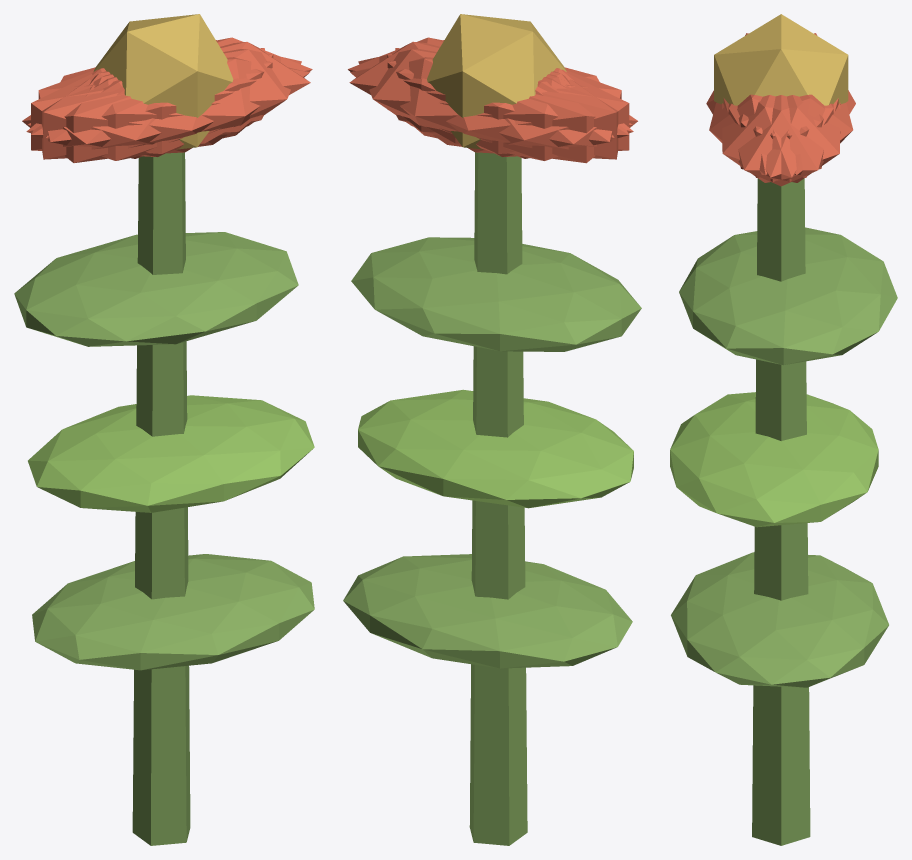
Rendered from ficus-racemosa.glb.
3 views of the same model, side by side, from view 1: azimuth 30°, elevation 25°; view 2: azimuth 150°, elevation 25°; view 3: azimuth 270°, elevation 25° (orthographic).
Parts seen in each view (by area): view 1: stem, leaf1, leaf0, leaf2, center, petal1, petal6, petal2, petal5, petal7, petal0, petal4 (+2 smaller); view 2: stem, leaf2, leaf0, leaf1, center, petal8, petal3, petal7, petal4, petal2, petal0, petal5 (+2 smaller); view 3: stem, leaf2, leaf0, leaf1, center, petal0, petal4, petal5, petal1, petal8.
Boxes of the visible parts, x1=… form: stem: x1=132, y1=152, x2=190, y2=845; leaf1: x1=28, y1=395, x2=314, y2=512; leaf0: x1=32, y1=554, x2=314, y2=670; leaf2: x1=14, y1=232, x2=298, y2=346; center: x1=93, y1=14, x2=233, y2=149; petal1: x1=26, y1=57, x2=309, y2=160; petal6: x1=22, y1=69, x2=226, y2=162; petal2: x1=42, y1=48, x2=264, y2=159; petal5: x1=46, y1=49, x2=301, y2=153; petal7: x1=31, y1=54, x2=273, y2=157; petal0: x1=93, y1=42, x2=310, y2=143; petal4: x1=28, y1=37, x2=312, y2=135; stem: x1=469, y1=152, x2=527, y2=845; leaf2: x1=351, y1=237, x2=641, y2=351; leaf0: x1=343, y1=554, x2=632, y2=668; leaf1: x1=358, y1=389, x2=633, y2=508; center: x1=427, y1=14, x2=566, y2=149; petal8: x1=350, y1=57, x2=633, y2=160; petal3: x1=433, y1=69, x2=637, y2=163; petal7: x1=395, y1=48, x2=618, y2=159; petal4: x1=358, y1=49, x2=614, y2=153; petal2: x1=387, y1=54, x2=629, y2=157; petal0: x1=349, y1=41, x2=566, y2=143; petal5: x1=348, y1=37, x2=632, y2=135; stem: x1=752, y1=178, x2=810, y2=845; leaf2: x1=679, y1=227, x2=897, y2=365; leaf0: x1=671, y1=552, x2=888, y2=687; leaf1: x1=670, y1=392, x2=878, y2=527; center: x1=714, y1=14, x2=848, y2=105; petal0: x1=723, y1=95, x2=838, y2=186; petal4: x1=728, y1=95, x2=840, y2=182; petal5: x1=722, y1=95, x2=833, y2=182; petal1: x1=709, y1=94, x2=823, y2=175; petal8: x1=738, y1=94, x2=853, y2=174.
Size of the model in its own units: 0.1452 by 0.4034 by 0.1039.
